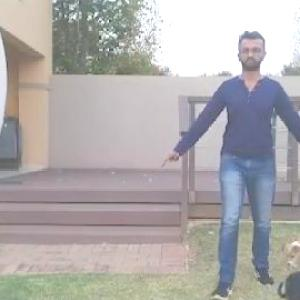land: (174, 42, 300, 279)
